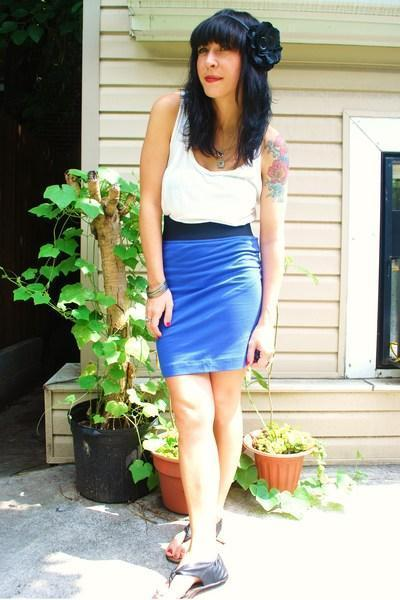shirt: (162, 108, 261, 249)
shoe: (180, 554, 227, 595)
skirt: (156, 236, 264, 376)
